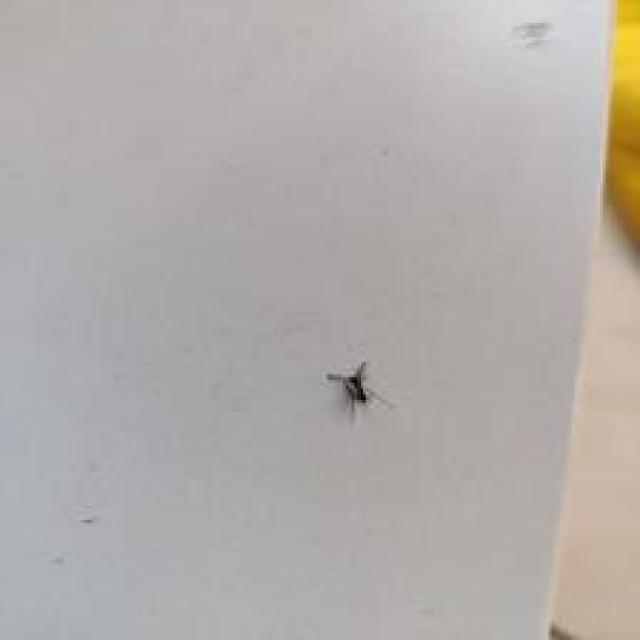Aedes albopictus: (324, 360, 390, 414)
